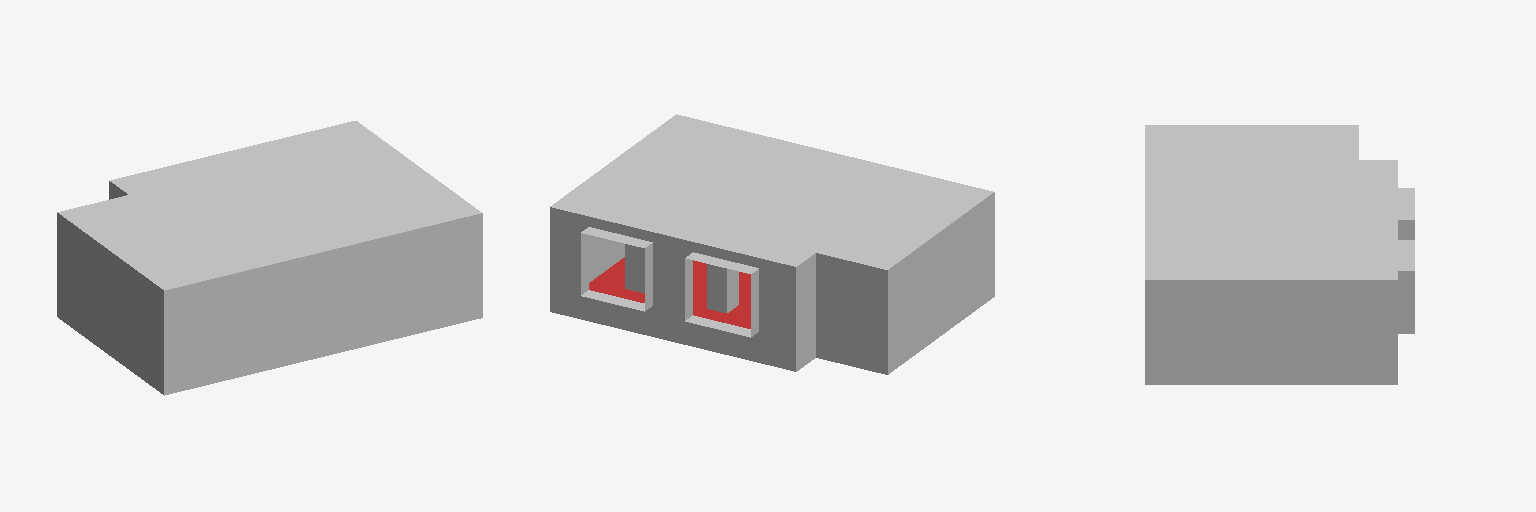
Rendered from room.obj.
3 views of the same model, side by side, from view 1: azimuth 30°, elevation 25°; view 2: azimuth 150°, elevation 25°; view 3: azimuth 270°, elevation 25° (orthographic).
Parts seen in each view (by area): view 1: Cube1; view 2: Cube1, Cube2_copy3, Cube2_copy4; view 3: Cube1.
Part boxes in pixels (bbox=[...]): Cube1: bbox=[57, 121, 482, 395]; Cube1: bbox=[550, 114, 994, 374]; Cube2_copy3: bbox=[707, 264, 738, 312]; Cube2_copy4: bbox=[625, 244, 644, 292]; Cube1: bbox=[1145, 125, 1414, 384].
Bounding box in the file's own units: 6.35 × 2.04 × 4.66.